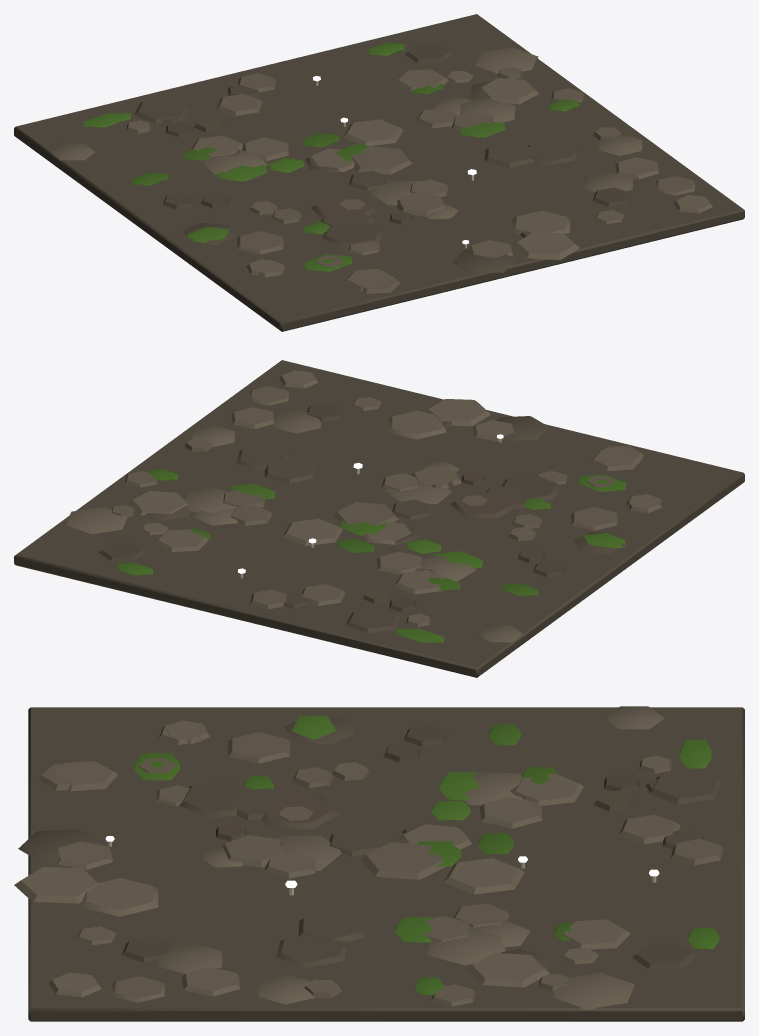
The model's file is cv_wurzel_floor.glb.
3 renders of one model, top to bottom at view 1: azimuth 30°, elevation 25°; view 2: azimuth 150°, elevation 25°; view 3: azimuth 270°, elevation 25°, orthographic. The views are drawn at different scales.
Visible parts, largest first — view 1: body; view 2: body; view 3: body.
Part boxes in pixels (x1=…): body: x1=14, y1=14, x2=744, y2=331; body: x1=14, y1=360, x2=744, y2=677; body: x1=14, y1=706, x2=744, y2=1021.
Size of the model in its own units: 14.04 by 0.6032 by 14.28.
